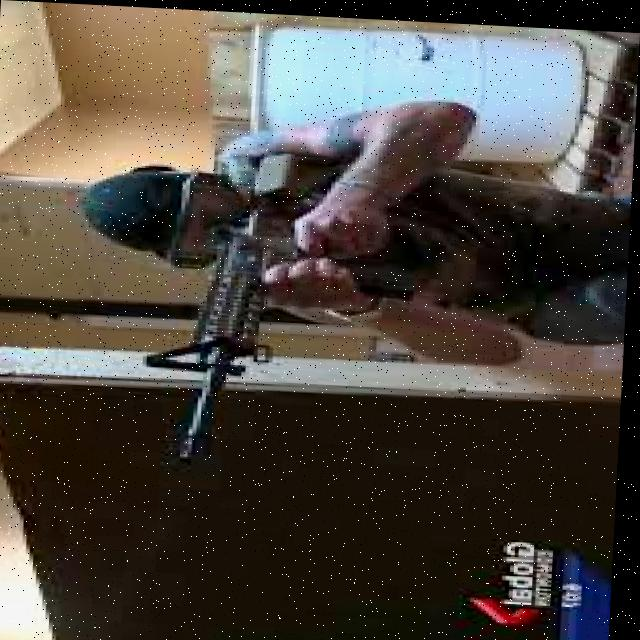firearm: (137, 142, 432, 474)
